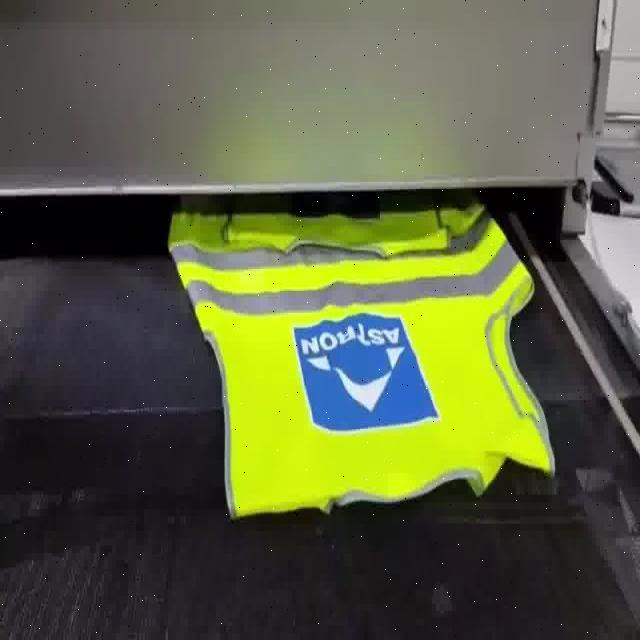Vest: (167, 203, 561, 523)
